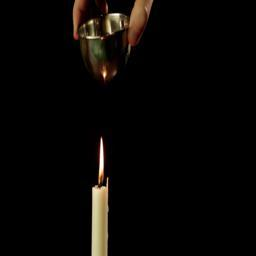fire: (98, 136, 105, 184)
